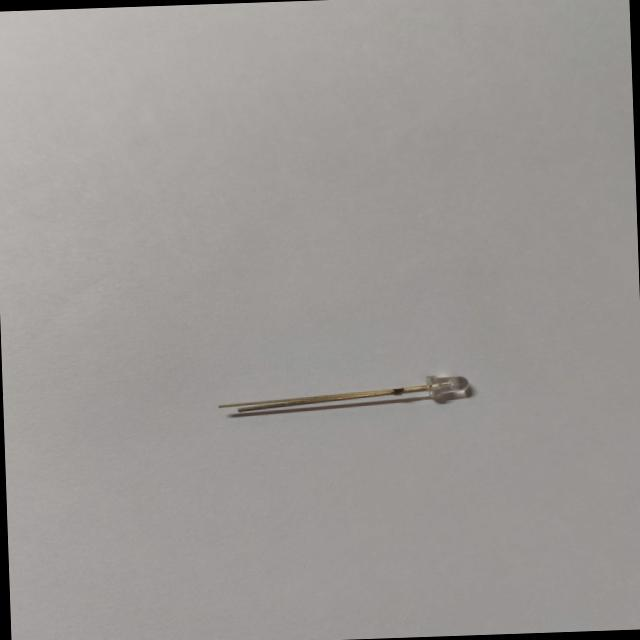led: (212, 362, 488, 424)
